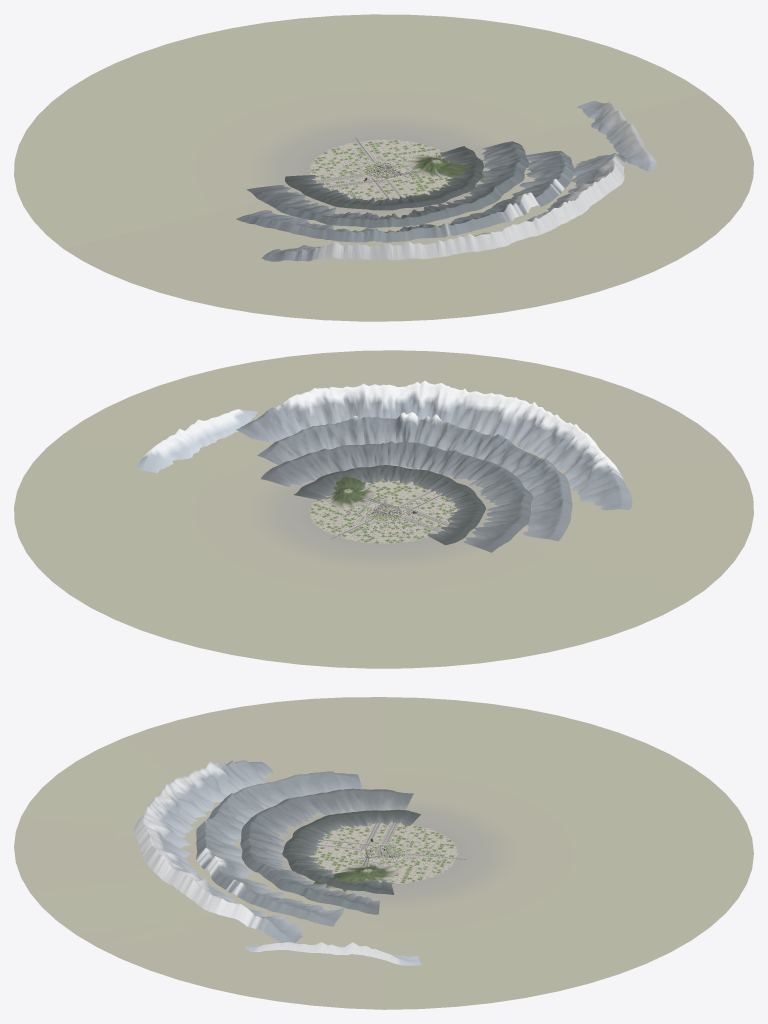
The model's file is dostyk-plaza.glb.
3 renders of one model, top to bottom at view 1: azimuth 30°, elevation 25°; view 2: azimuth 150°, elevation 25°; view 3: azimuth 270°, elevation 25°, orthographic.
Visible parts, largest first — view 1: Context_Far__ctx.farStreet, Context_Mountains__ctx.mountain, Context_Mountains__ctx.mountainFar, Context_Mountains__ctx.snow, Context_Far__site.ground, Context_Far__site.grassDark, Context_Far__ctx.clayFar, Context_Landmarks__ctx.hill; view 2: Context_Far__ctx.farStreet, Context_Mountains__ctx.mountainFar, Context_Mountains__ctx.mountain, Context_Mountains__ctx.snow, Context_Far__site.ground, Context_Far__site.grassDark, Context_Far__ctx.clayFar, Context_Landmarks__ctx.hill; view 3: Context_Far__ctx.farStreet, Context_Mountains__ctx.mountainFar, Context_Mountains__ctx.mountain, Context_Mountains__ctx.snow, Context_Far__site.ground, Context_Far__site.grassDark, Context_Far__ctx.clayFar, Context_Landmarks__ctx.hill.
Boxes of the visible parts, box(x1,y1,x2,y2) form: Context_Far__ctx.farStreet: box(14, 14, 753, 321); Context_Mountains__ctx.mountain: box(246, 141, 529, 227); Context_Mountains__ctx.mountainFar: box(236, 100, 656, 261); Context_Mountains__ctx.snow: box(313, 102, 655, 260); Context_Far__site.ground: box(310, 139, 452, 200); Context_Far__site.grassDark: box(311, 140, 450, 199); Context_Far__ctx.clayFar: box(311, 140, 449, 199); Context_Landmarks__ctx.hill: box(402, 154, 485, 180); Context_Far__ctx.farStreet: box(14, 350, 753, 668); Context_Mountains__ctx.mountainFar: box(136, 394, 632, 541); Context_Mountains__ctx.mountain: box(261, 441, 533, 552); Context_Mountains__ctx.snow: box(143, 380, 622, 477); Context_Far__site.ground: box(309, 480, 457, 543); Context_Far__site.grassDark: box(310, 480, 456, 543); Context_Far__ctx.clayFar: box(311, 481, 455, 542); Context_Landmarks__ctx.hill: box(323, 469, 373, 509); Context_Far__ctx.farStreet: box(14, 697, 753, 1009); Context_Mountains__ctx.mountainFar: box(156, 760, 420, 965); Context_Mountains__ctx.mountain: box(240, 788, 420, 914); Context_Mountains__ctx.snow: box(133, 761, 397, 964); Context_Far__site.ground: box(310, 822, 457, 884); Context_Far__site.grassDark: box(313, 824, 454, 884); Context_Far__ctx.clayFar: box(315, 823, 456, 883); Context_Landmarks__ctx.hill: box(313, 862, 399, 892).
Size of the model in its own units: 23000 by 1248 by 23000.
